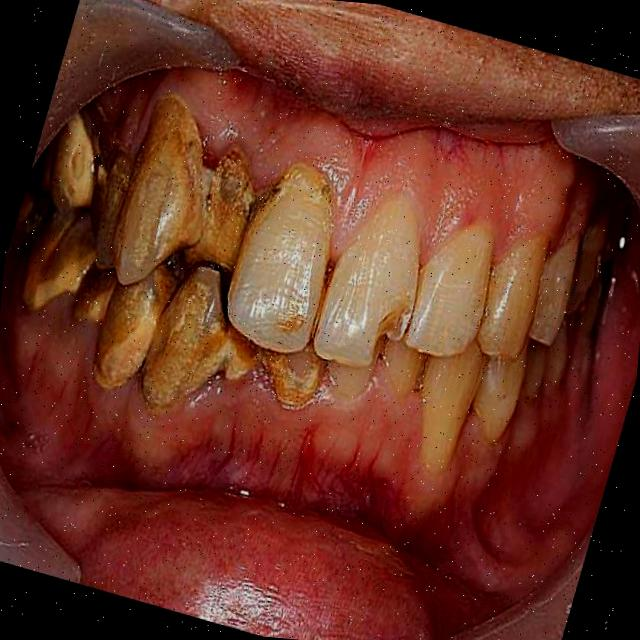calculus: (228, 156, 348, 356), (102, 78, 225, 264), (142, 272, 238, 419), (184, 130, 273, 276), (84, 282, 173, 404), (38, 118, 124, 230), (262, 326, 341, 434), (12, 220, 94, 319), (67, 257, 126, 341)
